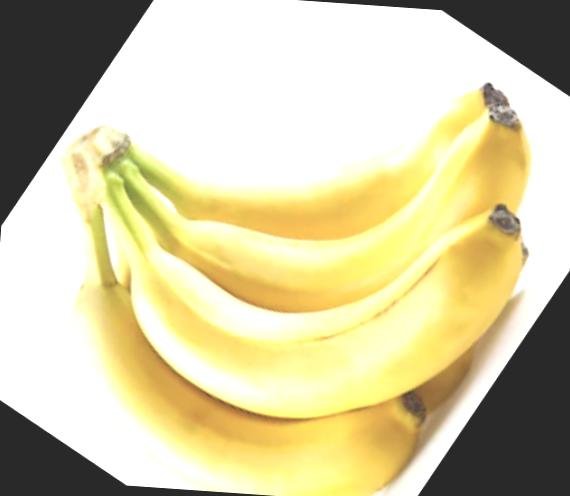Banana Ripe: (1, 10, 570, 496)
